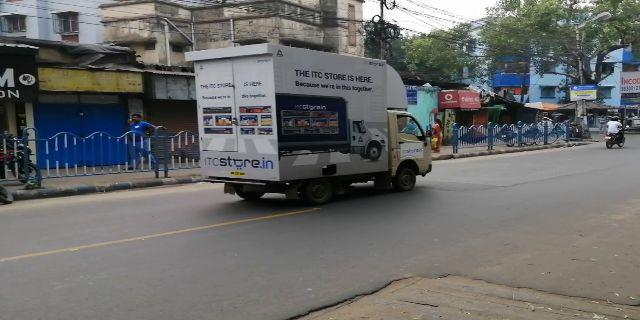Minitruck: (187, 51, 433, 204)
Motorbike: (604, 119, 624, 148)
